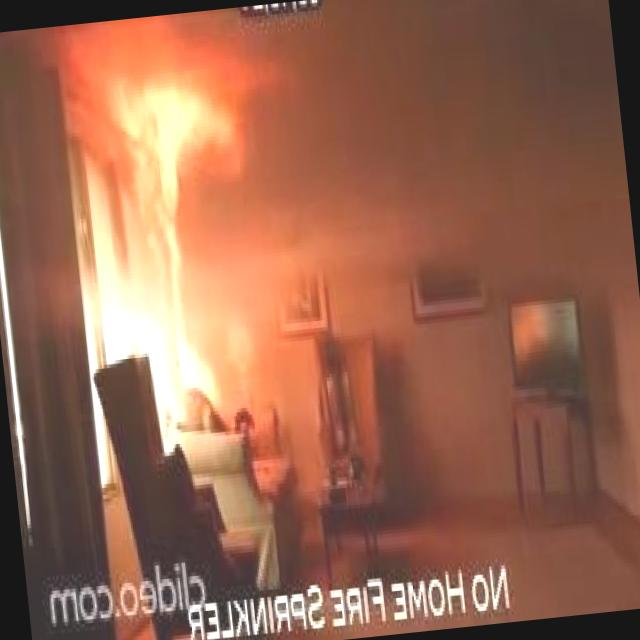fire: (88, 10, 276, 468)
